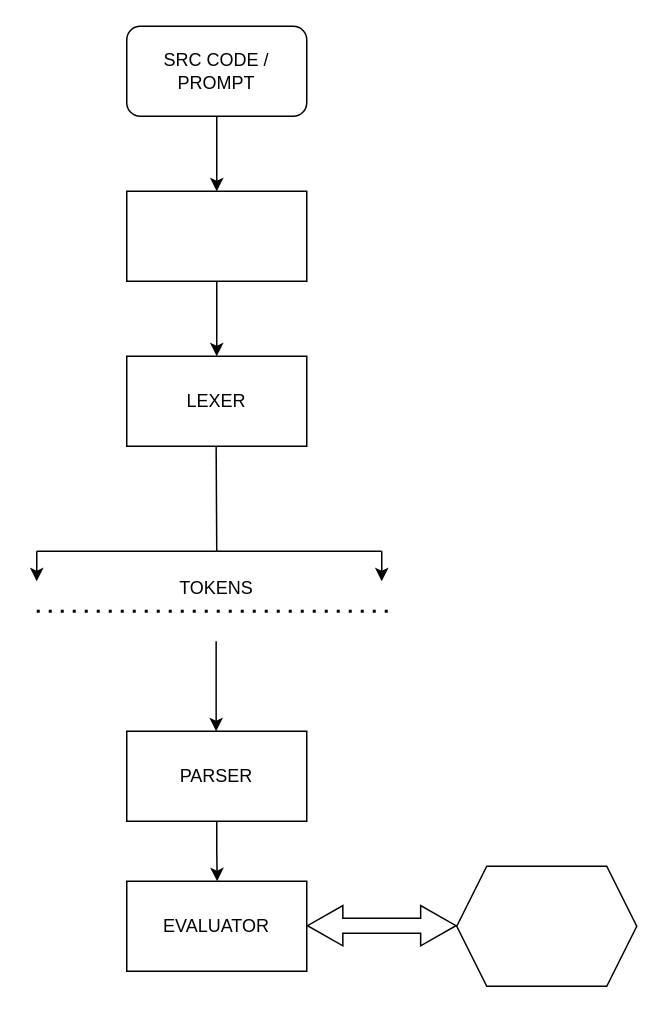
Some shapes in this 663 by 1013 pixel diagram are drawn without their labels. Here are the shapes that lost their labels. From the top down, the box of each, then its label:
(125, 190, 307, 281): FEEDER
(455, 865, 637, 986): INTERPRETER MACHINE STATE
